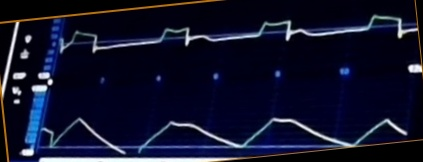Premature_cycling Flow: (60, 14, 416, 59)
Premature_cycling Volume: (42, 111, 407, 156)
